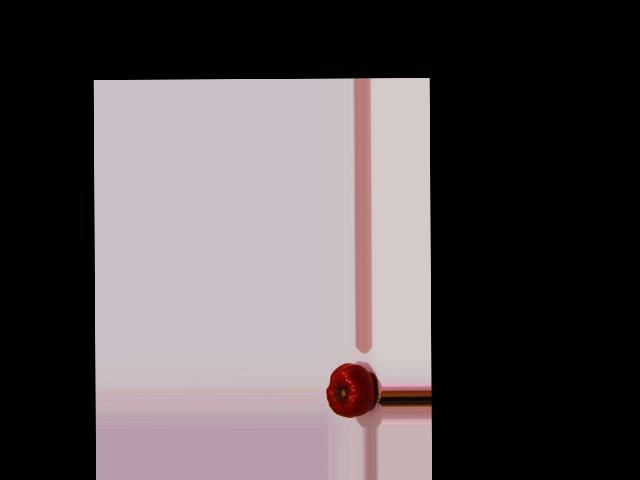tomato: (326, 363, 374, 417)
